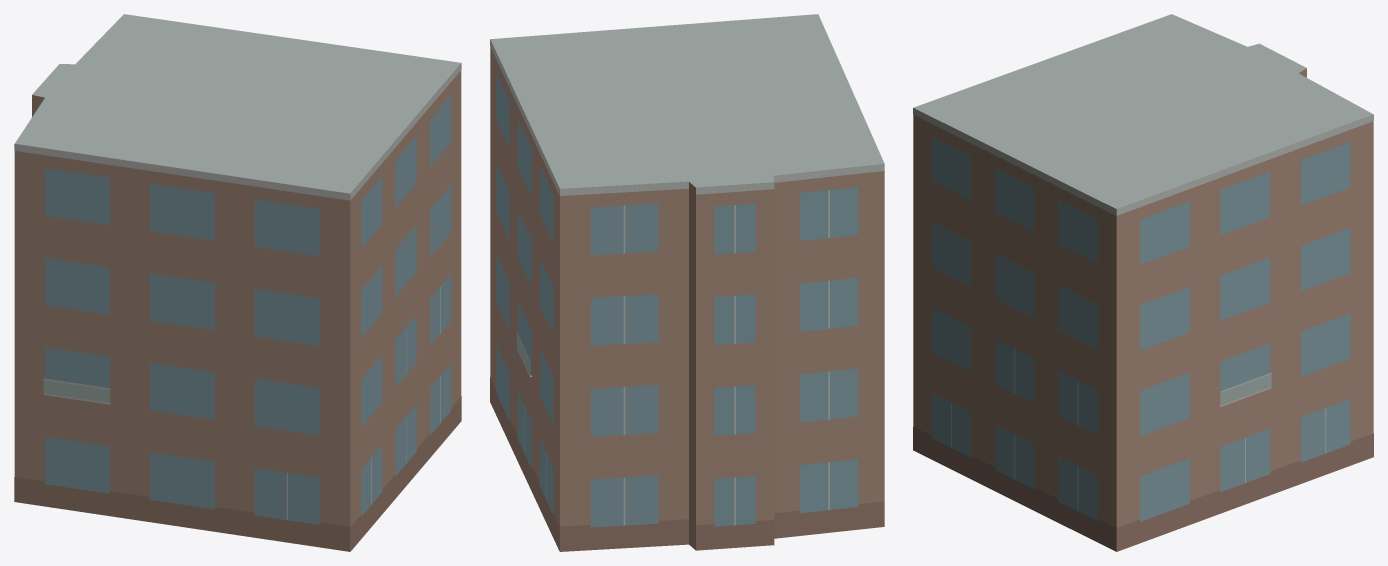
The model's file is survey-upis-32638129.glb.
3 views of the same model, side by side, from view 1: azimuth 30°, elevation 25°; view 2: azimuth 150°, elevation 25°; view 3: azimuth 270°, elevation 25° (orthographic). The views are drawn at different scales.
Parts seen in each view (by area): view 1: survey-upis-32638129.tmp; view 2: survey-upis-32638129.tmp; view 3: survey-upis-32638129.tmp.
Boxes of the visible parts, <box> form: survey-upis-32638129.tmp: <box>14,14,461,551</box>; survey-upis-32638129.tmp: <box>490,14,884,551</box>; survey-upis-32638129.tmp: <box>913,14,1373,551</box>.
Bounding box in the file's own units: 15.28 × 12.5 × 15.23.
